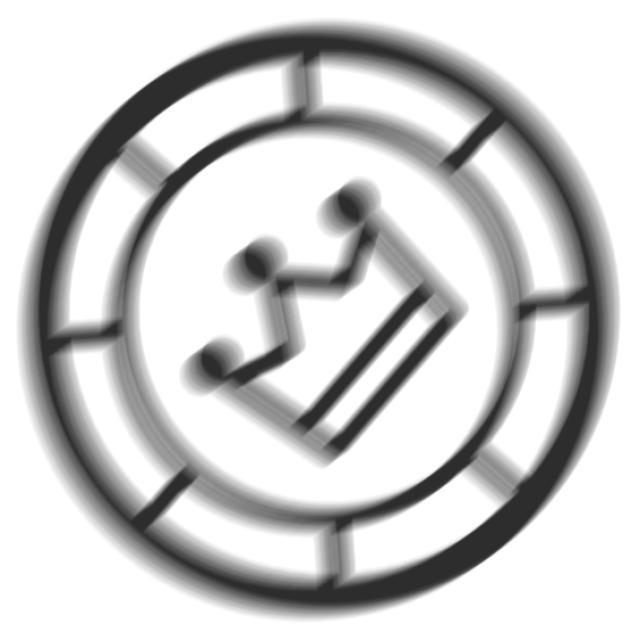coin: (15, 15, 626, 632)
